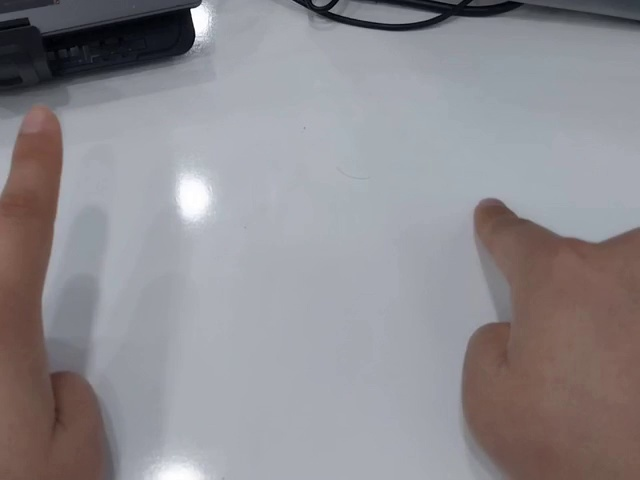fingers: (10, 104, 65, 169), (472, 196, 519, 245)
